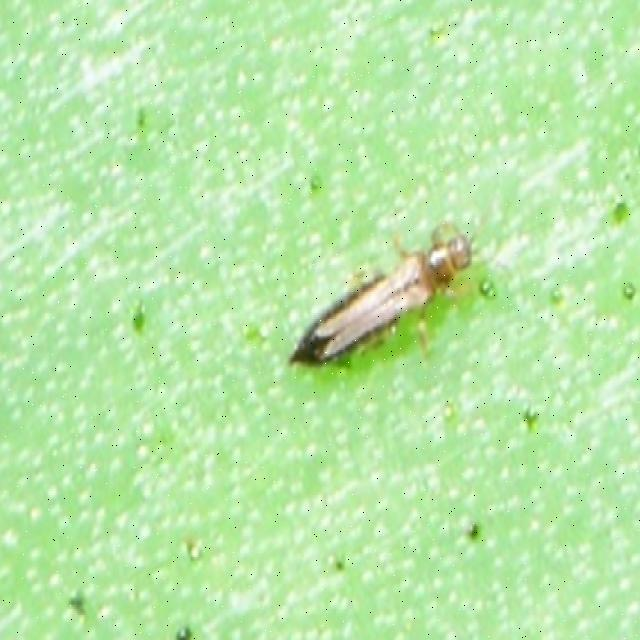Thrips: (263, 197, 497, 423)
